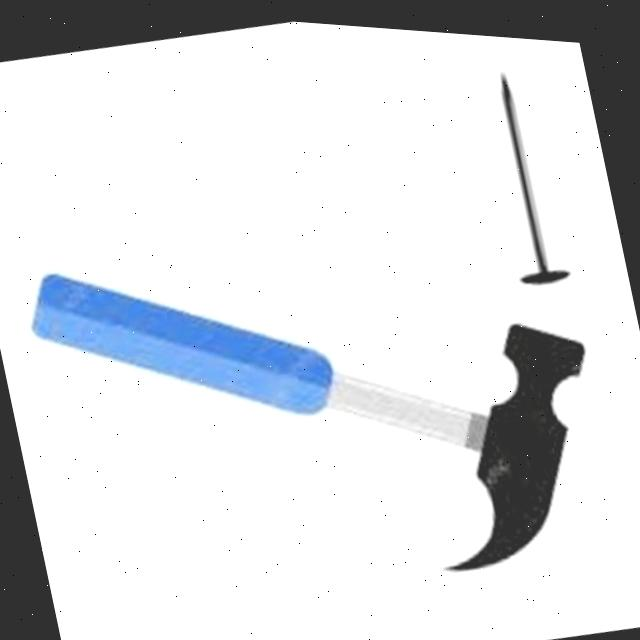hammer: (197, 257, 640, 640)
